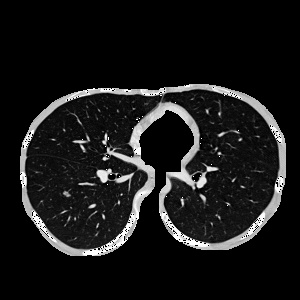PN: (64, 191, 70, 197)
